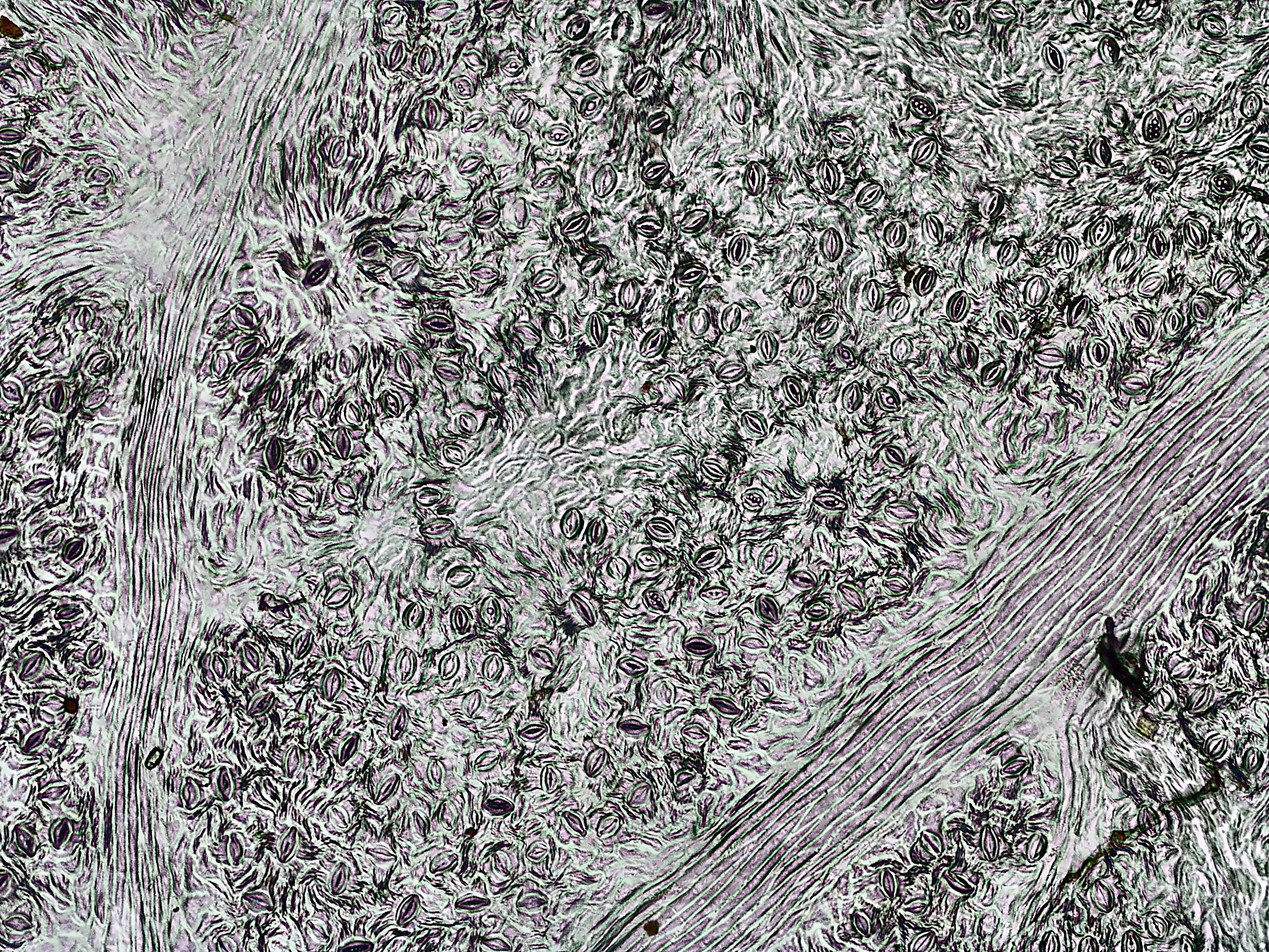stomata: (816, 159, 842, 193), (617, 714, 650, 740), (837, 579, 866, 608), (571, 594, 598, 625), (14, 823, 39, 856), (991, 308, 1018, 338), (820, 226, 843, 260), (757, 544, 782, 575), (276, 826, 298, 861), (815, 490, 847, 514), (782, 375, 806, 407), (728, 92, 752, 124), (882, 503, 918, 524), (433, 358, 463, 383), (1024, 275, 1049, 305), (213, 766, 235, 800), (456, 892, 491, 913), (714, 359, 749, 380), (1089, 134, 1111, 167), (610, 12, 632, 45), (20, 145, 44, 175), (516, 891, 550, 912), (738, 633, 769, 656), (592, 164, 614, 196), (394, 650, 416, 682), (376, 772, 398, 804), (481, 794, 513, 816), (694, 544, 721, 570), (874, 386, 901, 412), (21, 726, 49, 751), (560, 808, 588, 833), (1197, 620, 1222, 648), (1087, 216, 1112, 244), (50, 818, 74, 847), (487, 364, 511, 393), (1090, 880, 1114, 909), (1137, 807, 1161, 836), (708, 695, 741, 716), (1183, 219, 1206, 249), (1033, 345, 1064, 367), (944, 869, 975, 891), (987, 2, 1018, 24), (388, 705, 408, 739), (882, 441, 909, 466), (1145, 155, 1170, 182), (907, 94, 934, 119), (646, 516, 674, 540), (676, 264, 708, 285), (226, 830, 244, 867), (420, 313, 455, 332), (742, 160, 764, 190), (241, 641, 263, 671), (283, 746, 303, 779), (617, 655, 647, 677), (957, 338, 979, 368), (338, 734, 359, 765), (742, 411, 767, 437), (681, 208, 707, 233), (1118, 372, 1152, 391), (1145, 108, 1164, 142), (420, 100, 443, 128), (431, 851, 459, 874), (585, 748, 608, 776), (789, 566, 817, 589), (530, 270, 558, 293), (980, 191, 1003, 219), (1057, 237, 1080, 265), (181, 776, 201, 808), (517, 721, 549, 741), (879, 868, 899, 900), (559, 508, 581, 537), (791, 277, 813, 306), (617, 279, 639, 308), (948, 291, 970, 320), (542, 123, 572, 144), (242, 891, 272, 912), (757, 593, 778, 623), (438, 226, 468, 247), (981, 825, 999, 860), (264, 436, 283, 469), (323, 669, 342, 702), (700, 48, 719, 81), (625, 782, 650, 807), (642, 587, 667, 612), (32, 333, 58, 357), (231, 303, 257, 327), (247, 690, 273, 714), (528, 646, 554, 670), (1130, 312, 1154, 338), (0, 375, 23, 402), (922, 215, 945, 242), (1209, 171, 1236, 194), (629, 67, 652, 94), (365, 844, 396, 864), (510, 198, 532, 226), (1098, 35, 1120, 63), (949, 4, 971, 32), (37, 694, 66, 715), (757, 331, 778, 360), (1147, 229, 1168, 258), (640, 0, 669, 21), (1146, 912, 1167, 941), (242, 364, 266, 389), (682, 721, 707, 745), (305, 919, 329, 944), (641, 330, 666, 354), (642, 160, 666, 185), (462, 691, 485, 717), (605, 556, 631, 579), (635, 548, 661, 571), (543, 313, 566, 339), (1139, 274, 1165, 297), (1103, 104, 1129, 127), (1201, 14, 1227, 37), (358, 641, 375, 676), (1042, 44, 1064, 71), (333, 427, 352, 458), (480, 595, 499, 626), (685, 635, 716, 654), (587, 312, 606, 343), (291, 628, 312, 656), (482, 654, 503, 682), (921, 829, 942, 857), (700, 583, 729, 603), (2, 913, 31, 933), (1067, 296, 1087, 325), (858, 183, 882, 207), (1187, 687, 1211, 711), (379, 6, 403, 30), (885, 222, 908, 247), (982, 361, 1005, 386), (574, 51, 599, 74), (46, 384, 68, 410), (303, 259, 329, 281), (533, 168, 559, 190), (381, 390, 403, 416), (491, 850, 513, 876), (743, 485, 765, 511), (828, 123, 854, 145), (1027, 832, 1046, 862), (374, 182, 395, 209), (452, 605, 473, 632), (541, 764, 562, 791), (862, 281, 883, 308), (729, 234, 749, 262), (309, 389, 329, 417), (560, 213, 589, 232), (451, 75, 473, 100), (913, 138, 935, 163), (645, 111, 670, 133), (700, 459, 726, 480), (330, 804, 350, 831), (398, 894, 416, 924), (409, 810, 429, 837), (438, 801, 458, 828), (914, 266, 934, 293), (468, 263, 498, 281), (598, 813, 621, 836), (342, 401, 364, 425), (420, 518, 451, 535), (28, 423, 53, 444), (325, 584, 350, 605), (1089, 339, 1110, 364), (1174, 108, 1199, 129), (1240, 92, 1261, 117), (880, 576, 909, 594), (288, 484, 314, 504), (446, 565, 472, 585), (841, 382, 861, 408), (998, 239, 1018, 265), (1242, 748, 1262, 774), (1116, 243, 1136, 269), (385, 42, 404, 69), (664, 375, 687, 397), (235, 337, 259, 358), (41, 781, 69, 799), (25, 50, 45, 75), (636, 215, 661, 235), (853, 912, 873, 937), (689, 308, 708, 334), (1213, 269, 1239, 288), (331, 863, 348, 892), (1203, 734, 1221, 761), (416, 45, 434, 72), (336, 480, 358, 502), (63, 538, 84, 561), (1191, 294, 1211, 318), (581, 94, 601, 118), (23, 476, 51, 493), (396, 351, 413, 379), (1000, 758, 1028, 775), (327, 139, 346, 164), (499, 56, 524, 75), (1163, 307, 1182, 332), (427, 759, 445, 785), (893, 335, 911, 361), (337, 347, 353, 376), (457, 412, 479, 433), (84, 385, 107, 405), (459, 152, 482, 172), (300, 450, 320, 473), (442, 444, 465, 464), (84, 644, 104, 667), (525, 841, 548, 861), (887, 295, 907, 318), (211, 654, 228, 681), (89, 352, 113, 371), (403, 603, 422, 627), (804, 600, 828, 619), (439, 652, 457, 677), (1168, 660, 1193, 678), (1247, 600, 1265, 625), (1051, 158, 1076, 176), (814, 315, 835, 336), (566, 15, 588, 35), (357, 238, 380, 257), (413, 172, 432, 195), (511, 100, 530, 123), (40, 42, 63, 61), (21, 654, 40, 677), (267, 381, 283, 408), (473, 751, 497, 769), (588, 518, 605, 543), (723, 305, 740, 330), (463, 48, 484, 68), (581, 253, 600, 275), (212, 351, 228, 376), (417, 488, 442, 504), (393, 258, 414, 277), (672, 771, 696, 787), (393, 219, 425, 231), (1239, 221, 1259, 240), (76, 307, 94, 328), (835, 345, 855, 363), (461, 116, 486, 130), (1155, 689, 1170, 712), (754, 677, 774, 694), (57, 604, 83, 617), (471, 210, 498, 222), (903, 900, 924, 911), (44, 528, 59, 543)
